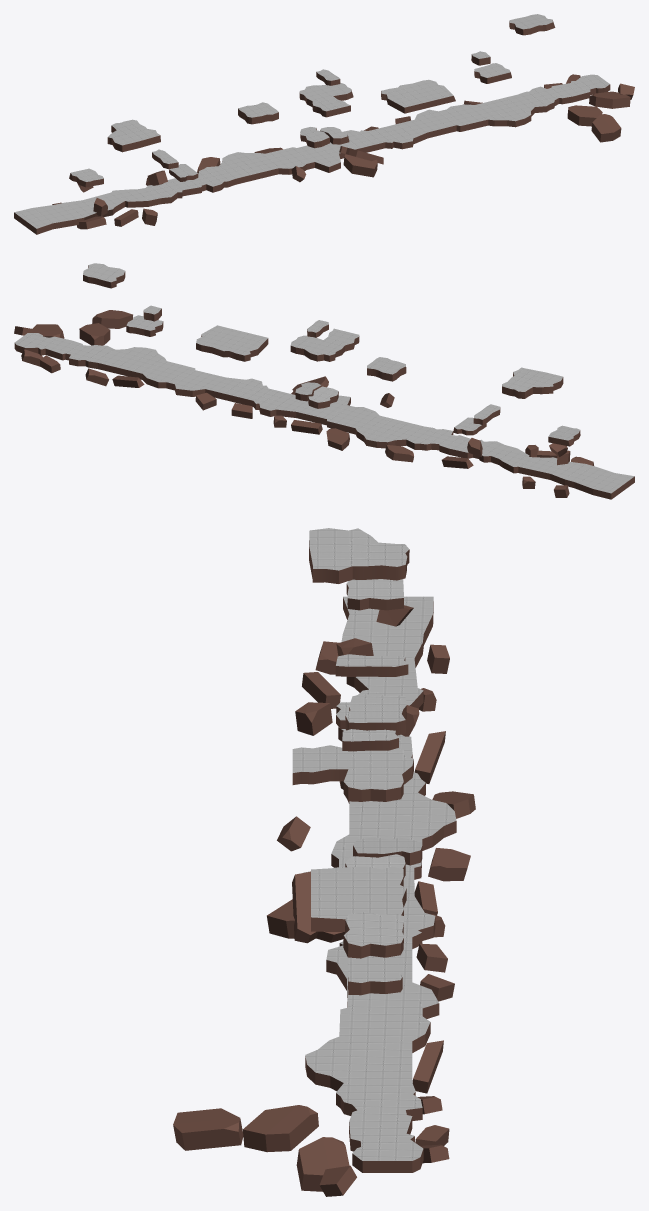
File: Level_Ground_Mesh.fbx
The picture shows the model from 3 angles, top to bottom: view 1: azimuth 30°, elevation 25°; view 2: azimuth 150°, elevation 25°; view 3: azimuth 270°, elevation 25°; orthographic projection. The views are drawn at different scales.
Visible parts, largest first — view 1: Level_Ground_Platform1, Level_Ground_Platform6, Level_Ground_Platform5, Level_Ground_Platform2, Level_Ground_Platform10, Level_Ground_Platform8, Level_Ground_Platform4, Platform_Rubble19, Platform_Rubble16, Platform_Rubble20, Level_Ground_Platform7, Platform_Rubble15 (+4 smaller); view 2: Level_Ground_Platform1, Level_Ground_Platform6, Level_Ground_Platform5, Level_Ground_Platform2, Level_Ground_Platform10, Level_Ground_Platform8, Level_Ground_Platform4, Platform_Rubble20, Platform_Rubble19, Level_Ground_Platform7, Level_Ground_Platform3, Platform_Rubble10 (+5 smaller); view 3: Level_Ground_Platform1, Level_Ground_Platform5, Level_Ground_Platform6, Level_Ground_Platform2, Platform_Rubble20, Level_Ground_Platform8, Platform_Rubble19, Level_Ground_Platform4, Level_Ground_Platform10, Level_Ground_Platform7, Platform_Rubble16, Level_Ground_Platform3 (+7 smaller).
Boxes of the visible parts, x1,y1,x2,y2 form: Level_Ground_Platform1: (14,74,610,234); Level_Ground_Platform6: (381,79,455,113); Level_Ground_Platform5: (299,82,353,117); Level_Ground_Platform2: (107,119,160,152); Level_Ground_Platform10: (300,127,349,148); Level_Ground_Platform8: (509,14,555,35); Level_Ground_Platform4: (238,102,278,124); Platform_Rubble19: (591,114,621,142); Platform_Rubble16: (589,91,630,108); Platform_Rubble20: (567,105,602,126); Level_Ground_Platform7: (474,63,511,83); Platform_Rubble15: (343,154,377,177); Level_Ground_Platform1: (14,333,634,499); Level_Ground_Platform6: (196,325,268,361); Level_Ground_Platform5: (290,328,359,361); Level_Ground_Platform2: (502,367,563,398); Level_Ground_Platform10: (295,382,338,408); Level_Ground_Platform8: (83,263,125,288); Level_Ground_Platform4: (367,357,406,381); Platform_Rubble20: (79,323,110,345); Platform_Rubble19: (92,310,132,328); Level_Ground_Platform7: (126,315,163,336); Level_Ground_Platform3: (548,425,580,446); Platform_Rubble10: (326,428,349,450); Level_Ground_Platform1: (303,596,456,1172); Level_Ground_Platform5: (292,745,413,801); Level_Ground_Platform6: (311,866,406,931); Level_Ground_Platform2: (309,528,409,583); Platform_Rubble20: (242,1105,318,1152); Level_Ground_Platform8: (343,912,403,958); Platform_Rubble19: (173,1108,243,1150); Level_Ground_Platform4: (345,694,406,735); Level_Ground_Platform10: (345,837,422,878); Level_Ground_Platform7: (348,956,402,995); Platform_Rubble16: (296,1137,349,1191); Level_Ground_Platform3: (346,579,403,610).
Size of the model in its own units: 11041 by 1744 by 2426.
